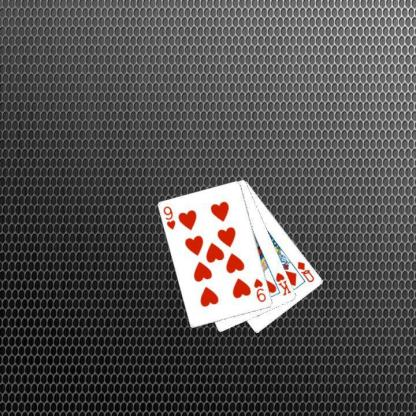9H: (251, 276, 268, 304), (160, 203, 176, 231)
KH: (274, 270, 292, 297)
QD: (294, 259, 315, 284)
